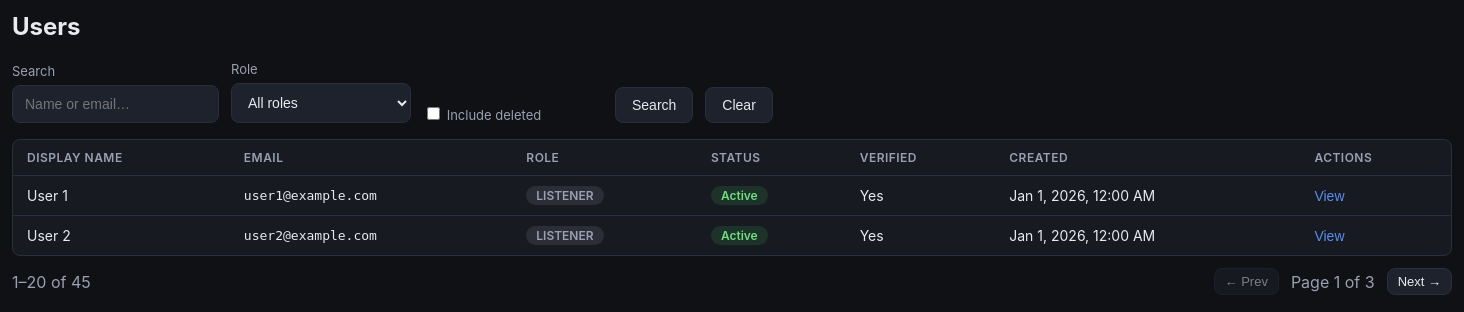
Scenario: UsersPage › wires pagination to the page parameter
This screenshot has width=1464, height=312.
Expected: the text "User 1" is shown, 13,176 -> 230,216
Expected: the text "Page 1 of 3" is shown, 1291,272 -> 1375,292
Click the button with aria-label "Next page" at (1419, 282), box 1387,268 -> 1452,295
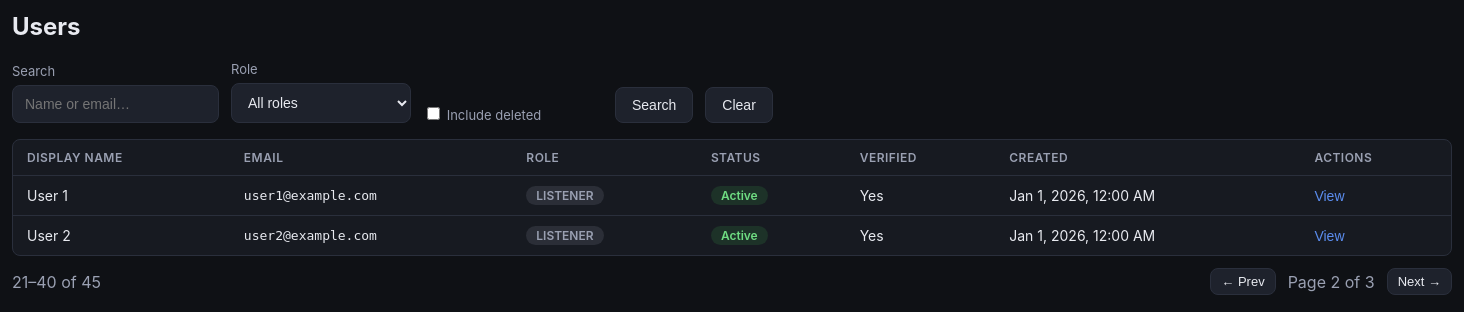
Result: the text "Page 2 of 3" is shown at 1288,272 -> 1375,292
